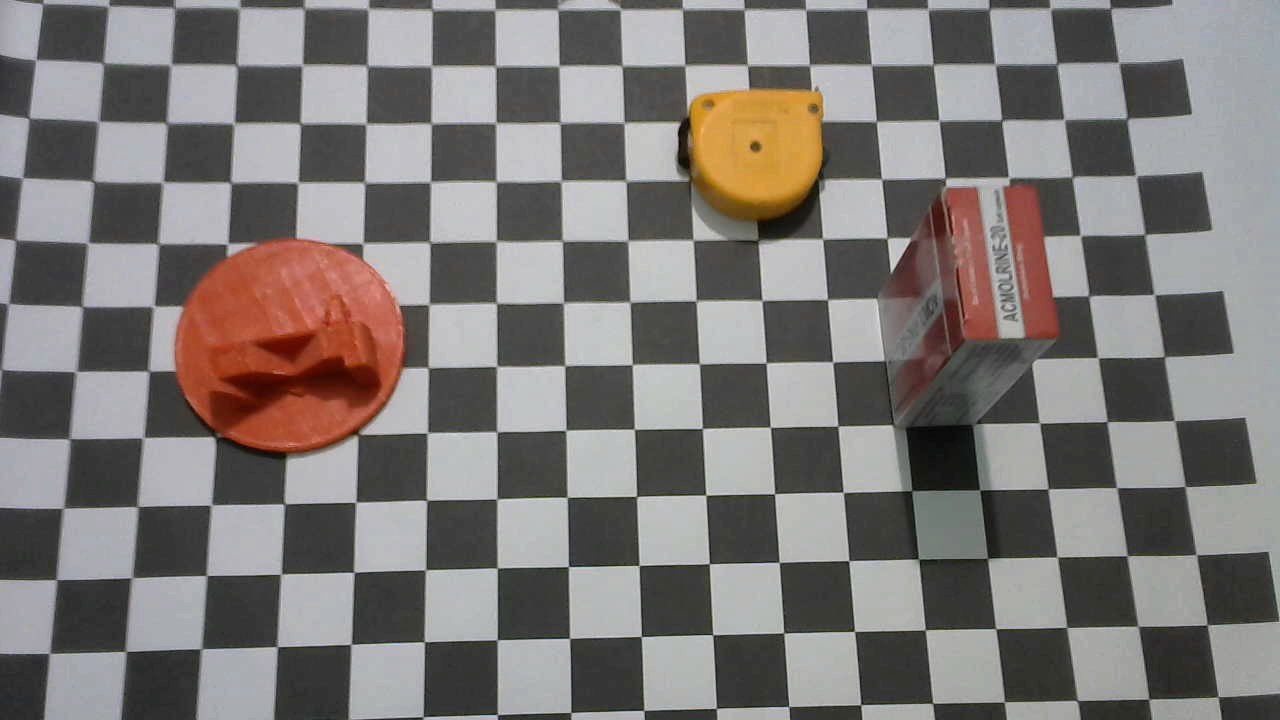blue: (674, 89, 826, 222)
green: (172, 237, 404, 455)
red: (877, 186, 1061, 426)
